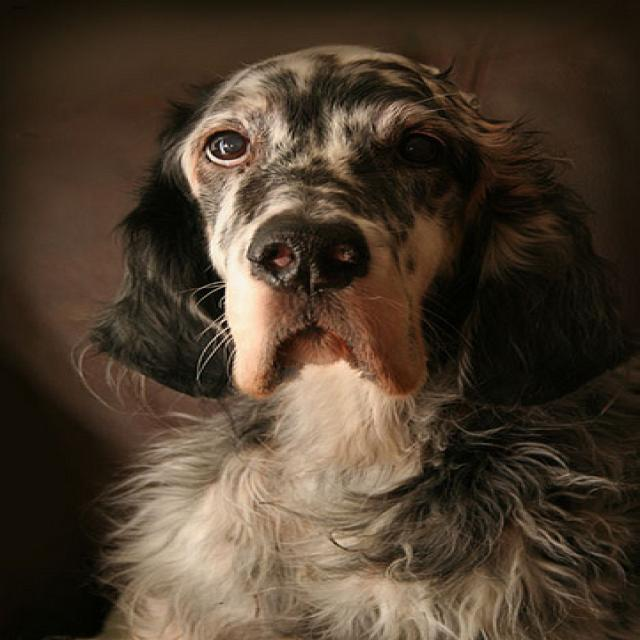dog-english_setter: (64, 36, 636, 637)
